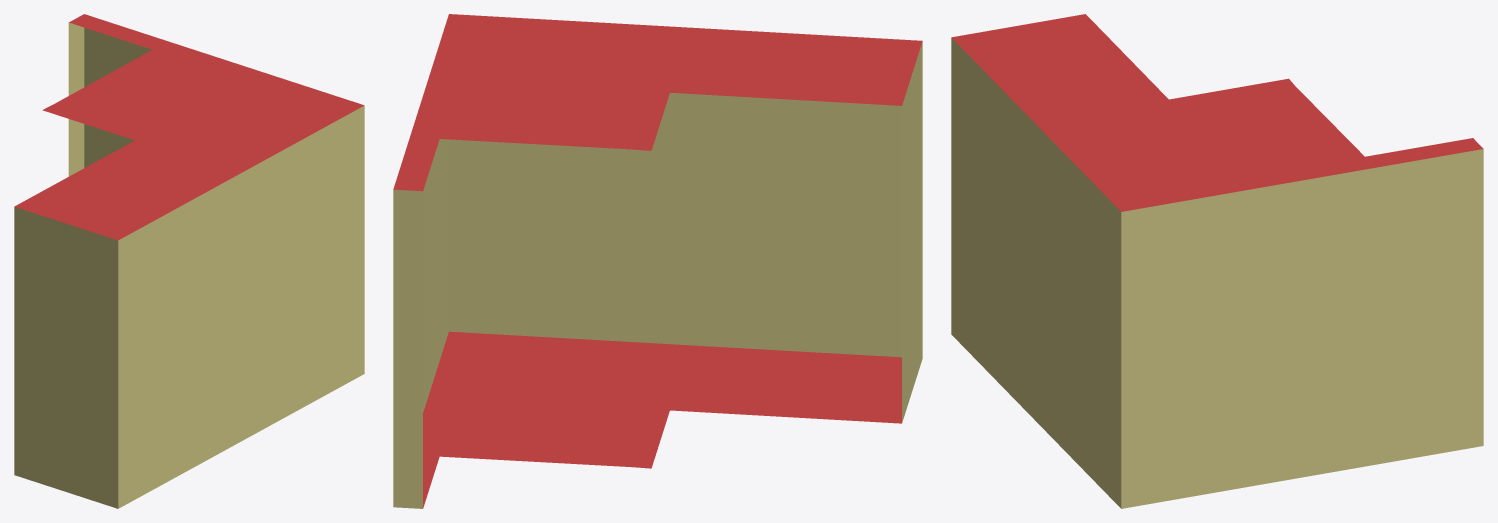
3 views of the same model, side by side, from view 1: azimuth 30°, elevation 25°; view 2: azimuth 150°, elevation 25°; view 3: azimuth 270°, elevation 25° (orthographic). The views are drawn at different scales.
Size of the model in its own units: 8.35 by 9.49 by 5.84.
